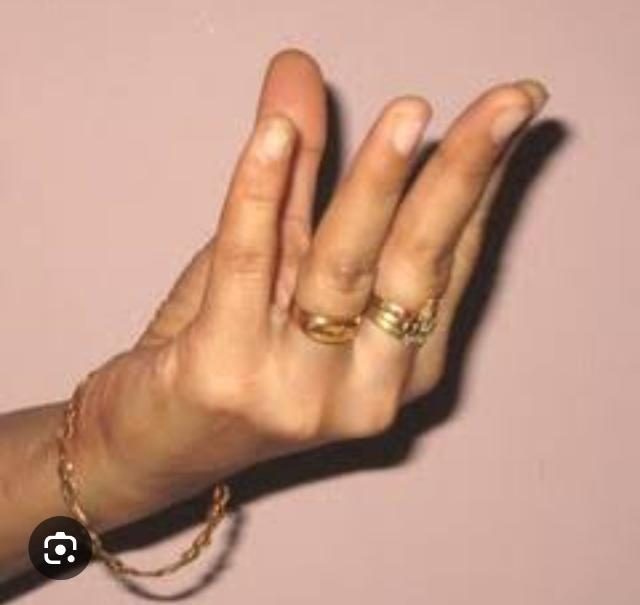padamkosh: (0, 52, 545, 604)
